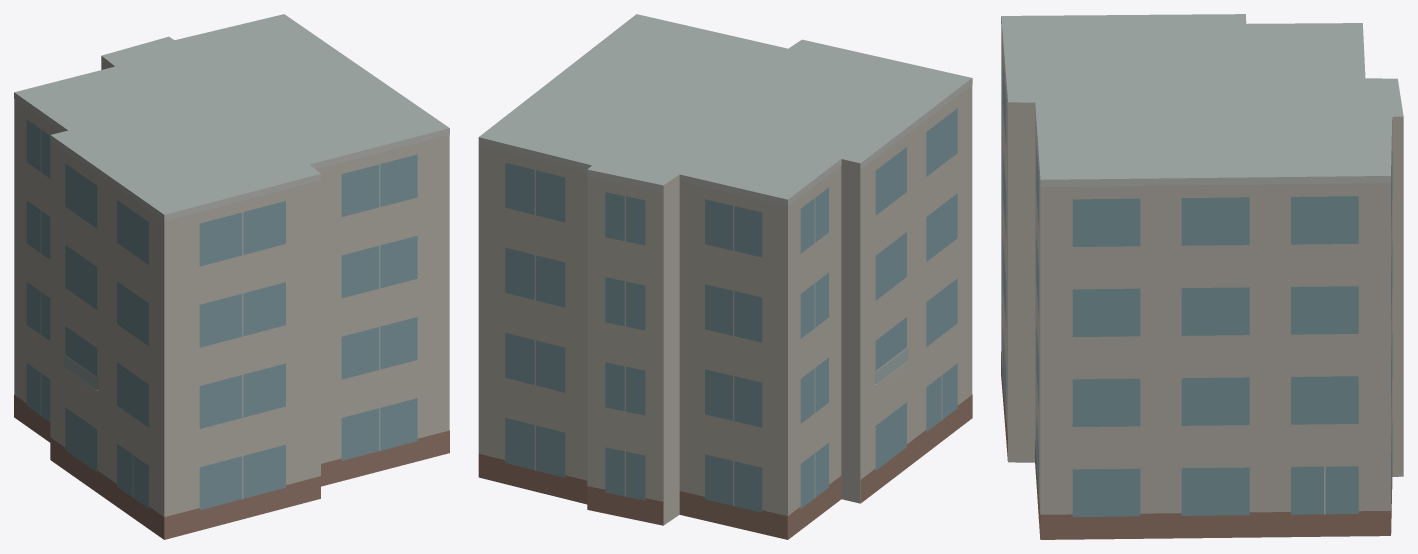
The model's file is survey-upis-32610334.glb.
3 views of the same model, side by side, from view 1: azimuth 30°, elevation 25°; view 2: azimuth 150°, elevation 25°; view 3: azimuth 270°, elevation 25° (orthographic). The views are drawn at different scales.
Parts seen in each view (by area): view 1: survey-upis-32610334.tmp; view 2: survey-upis-32610334.tmp; view 3: survey-upis-32610334.tmp.
Boxes of the visible parts, x1=… form: survey-upis-32610334.tmp: x1=14, y1=14, x2=449, y2=539; survey-upis-32610334.tmp: x1=478, y1=14, x2=972, y2=539; survey-upis-32610334.tmp: x1=1001, y1=14, x2=1403, y2=539.
Size of the model in its own units: 12.07 by 12.2 by 12.37.
